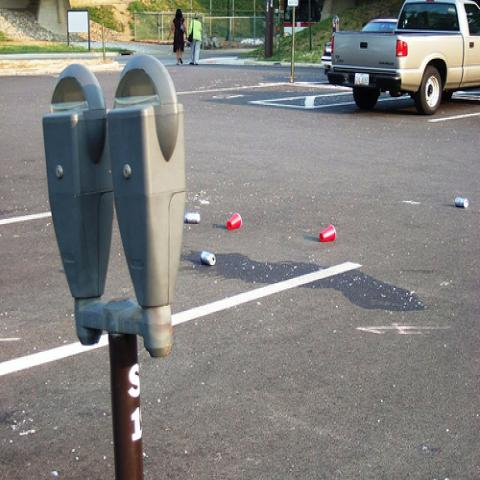car: (322, 2, 479, 112), (321, 19, 398, 79), (204, 36, 214, 50)
truck: (327, 1, 479, 119)
